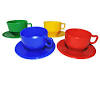cup: (64, 28, 99, 52), (20, 27, 54, 51)
